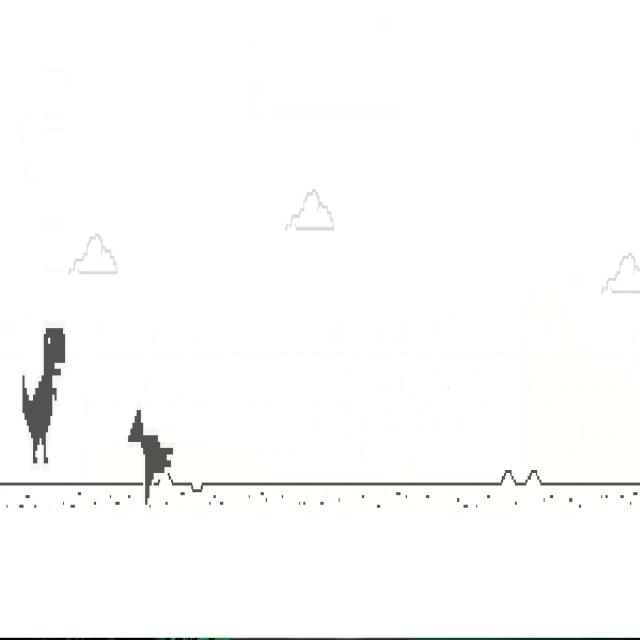dino: (23, 327, 65, 465)
ptero: (128, 409, 173, 506)
